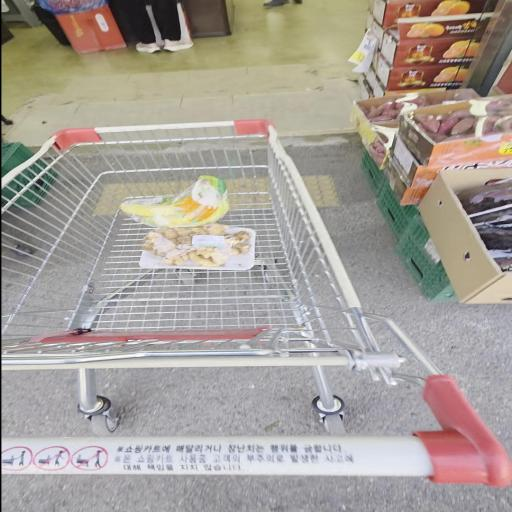fully_cart: (0, 122, 511, 487)
